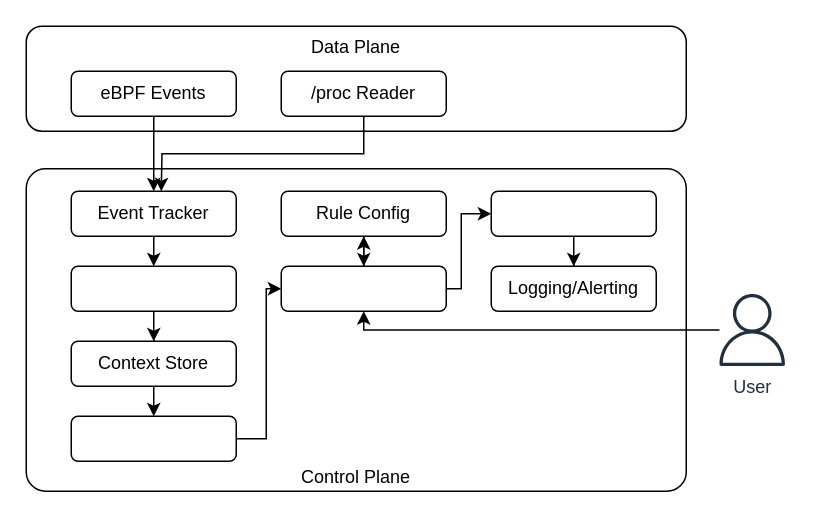
Some shapes in this 815 by 518 pixel diagram are drawn without their labels. Each missing label, with the box of its shape:
Context Build: (70, 415, 236, 461)
Decision Engine: (490, 190, 656, 236)
Rule Engine: (280, 265, 446, 311)
Session Tracker: (70, 265, 236, 311)
